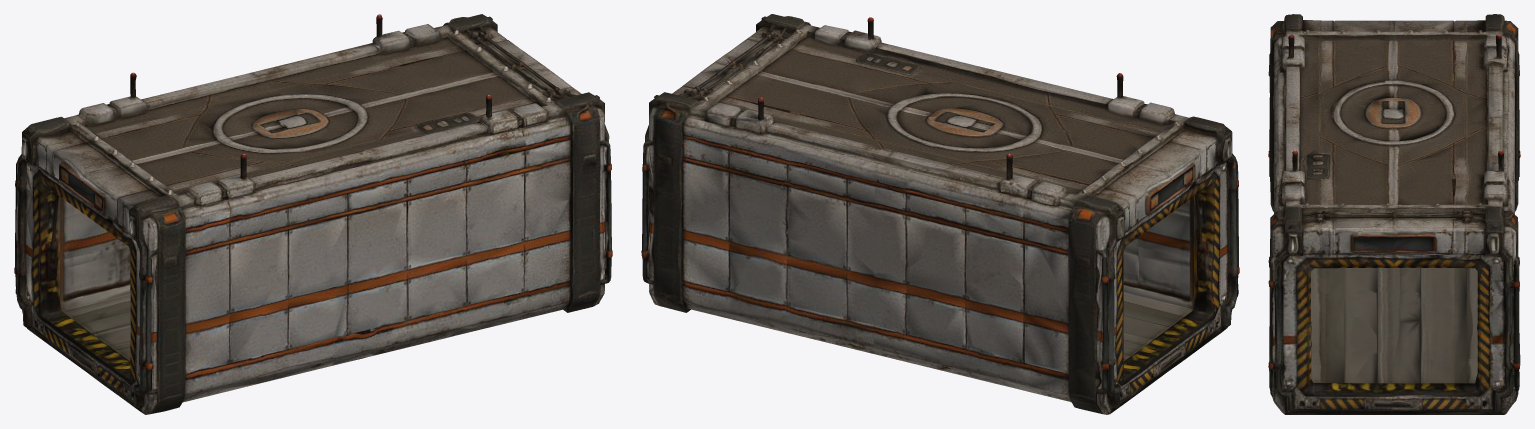
The model's file is customs_hall.glb.
The picture shows the model from 3 angles, left to right: view 1: azimuth 30°, elevation 25°; view 2: azimuth 150°, elevation 25°; view 3: azimuth 270°, elevation 25°; orthographic projection. The views are drawn at different scales.
Visible parts, largest first — view 1: tripo_node_1a5e0c12-e928-4de0-93d7-e139e656234a; view 2: tripo_node_1a5e0c12-e928-4de0-93d7-e139e656234a; view 3: tripo_node_1a5e0c12-e928-4de0-93d7-e139e656234a.
Boxes of the visible parts, box(x1,y1,x2,y2) form: tripo_node_1a5e0c12-e928-4de0-93d7-e139e656234a: box(14, 14, 612, 414); tripo_node_1a5e0c12-e928-4de0-93d7-e139e656234a: box(641, 14, 1239, 414); tripo_node_1a5e0c12-e928-4de0-93d7-e139e656234a: box(1268, 14, 1520, 414).
Size of the model in its own units: 0.9994 by 0.473 by 0.4925.
1 material, 1 textured.
